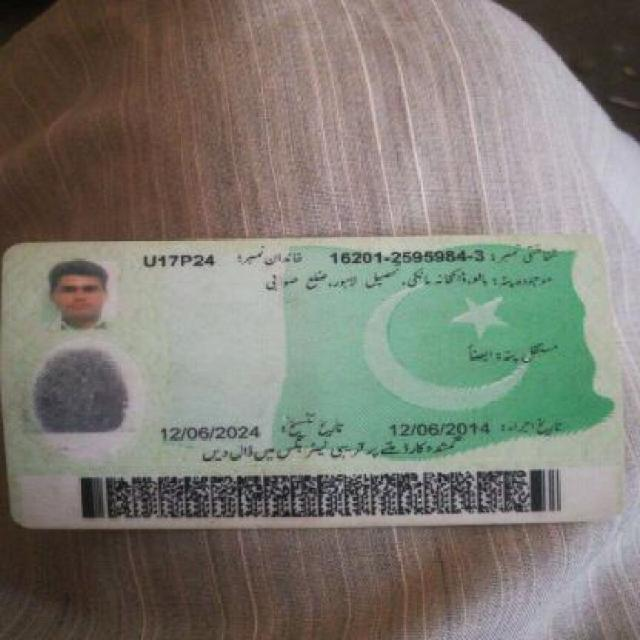Back: (5, 237, 620, 526)
